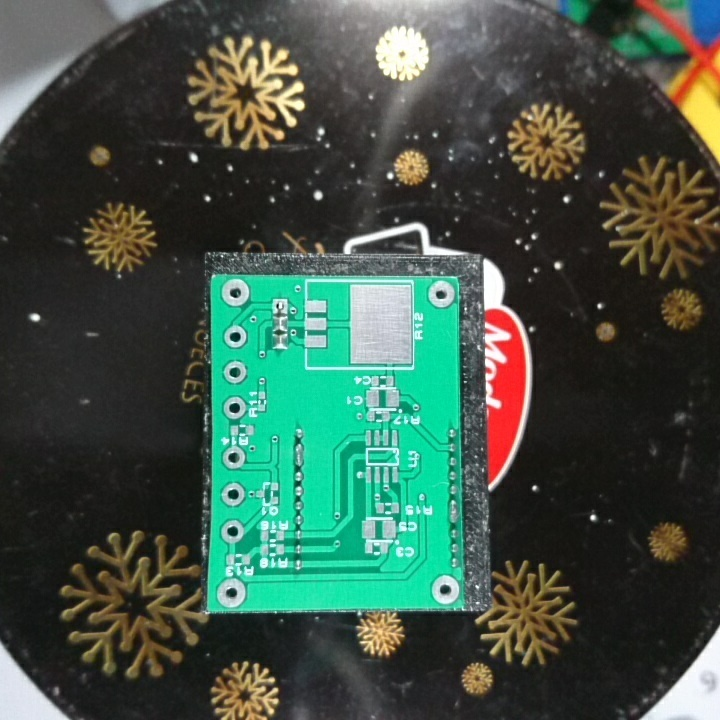F: (215, 574, 249, 609), (424, 280, 459, 312), (219, 277, 253, 309), (428, 575, 462, 606), (221, 357, 249, 389), (219, 516, 245, 549), (219, 444, 246, 474), (219, 394, 250, 420), (221, 323, 248, 352), (220, 480, 246, 509), (269, 296, 290, 315)
P: (290, 442, 310, 468), (445, 500, 463, 526)
